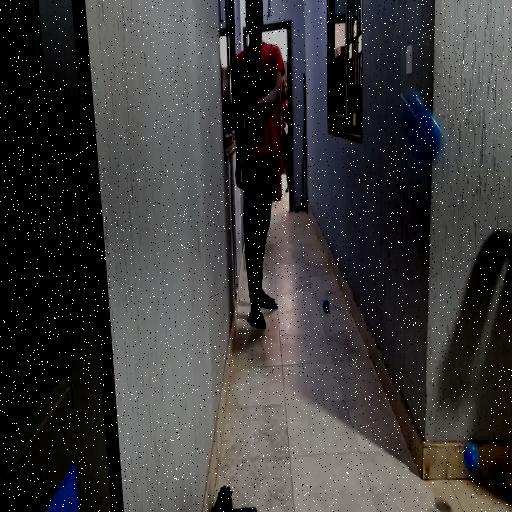plastic-ball: (409, 91, 439, 167)
